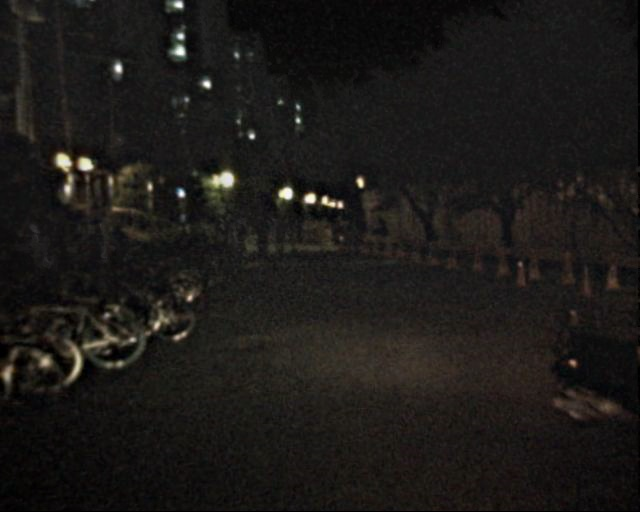person: (27, 222, 54, 287), (214, 215, 252, 249), (90, 217, 111, 269), (116, 222, 135, 268), (373, 217, 392, 263), (252, 217, 270, 262), (268, 216, 286, 261), (286, 216, 304, 245)
